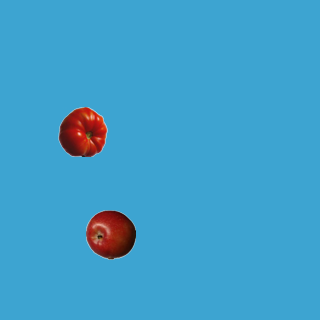Apple Braeburn: (85, 209, 135, 259)
Tomato 3: (57, 106, 107, 156)
